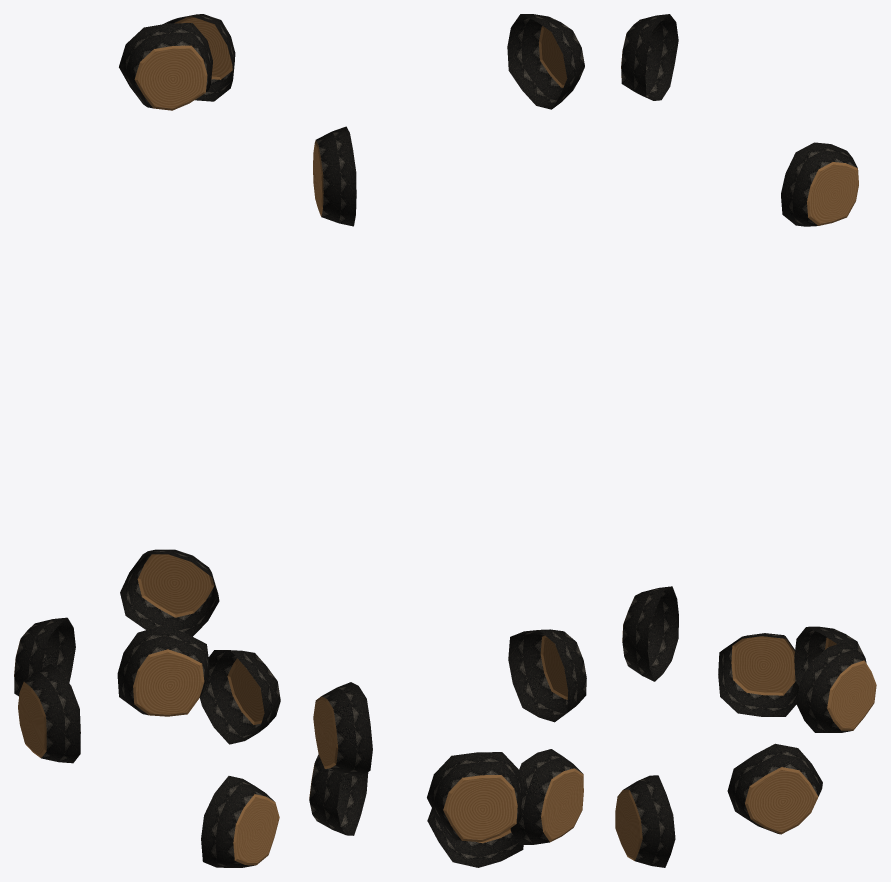
Rendered from Sitka_Mature_02_LowPruned_Recent_LOD1.fbx.
3 views of the same model, side by side, from view 1: azimuth 30°, elevation 25°; view 2: azimuth 150°, elevation 25°; view 3: azimuth 270°, elevation 25° (orthographic). The views are drawn at different scales.
Parts seen in each view (by area): view 1: Sitka_Mature_02_LowPruned_Recent_LOD1_Scars; view 2: Sitka_Mature_02_LowPruned_Recent_LOD1_Scars; view 3: Sitka_Mature_02_LowPruned_Recent_LOD1_Scars.
Boxes of the visible parts, x1=… form: Sitka_Mature_02_LowPruned_Recent_LOD1_Scars: x1=14, y1=14, x2=280, y2=867; Sitka_Mature_02_LowPruned_Recent_LOD1_Scars: x1=309, y1=14, x2=586, y2=867; Sitka_Mature_02_LowPruned_Recent_LOD1_Scars: x1=615, y1=14, x2=876, y2=867.
Size of what is drawn, in the model's own units: 35.02 by 118 by 34.4.
2 materials, 2 textured.
